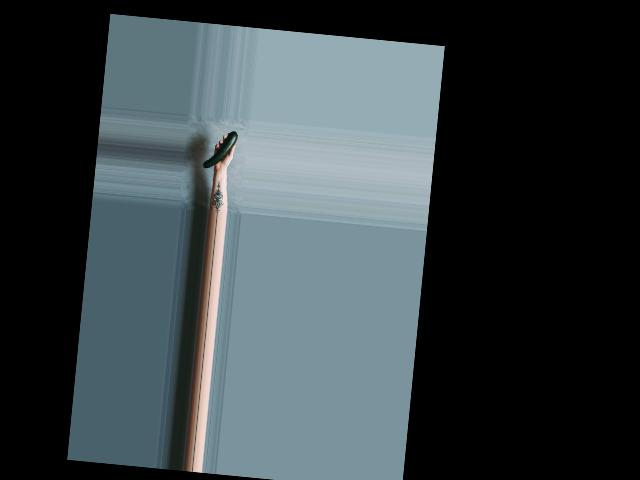cucumber: (202, 128, 237, 170)
